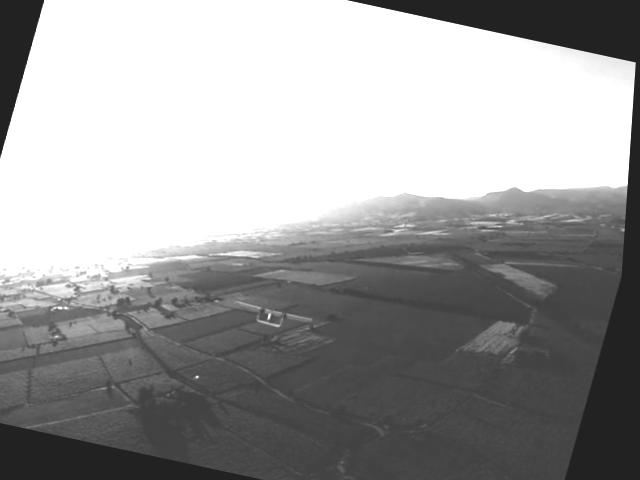hedef: (224, 284, 324, 346)
